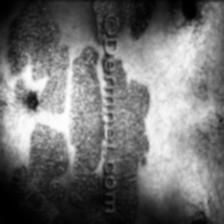Non-Cancerous Skin Condition: (0, 0, 93, 224), (117, 0, 178, 224)
